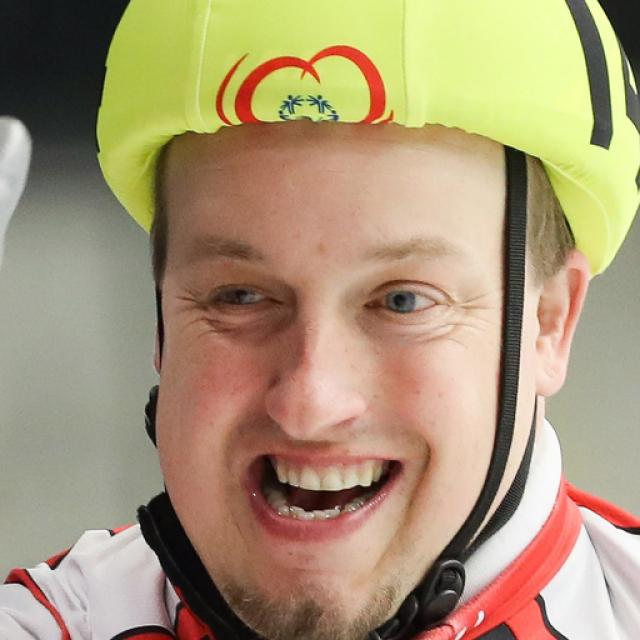Dark Circle: (208, 304, 295, 346), (357, 307, 453, 344)
